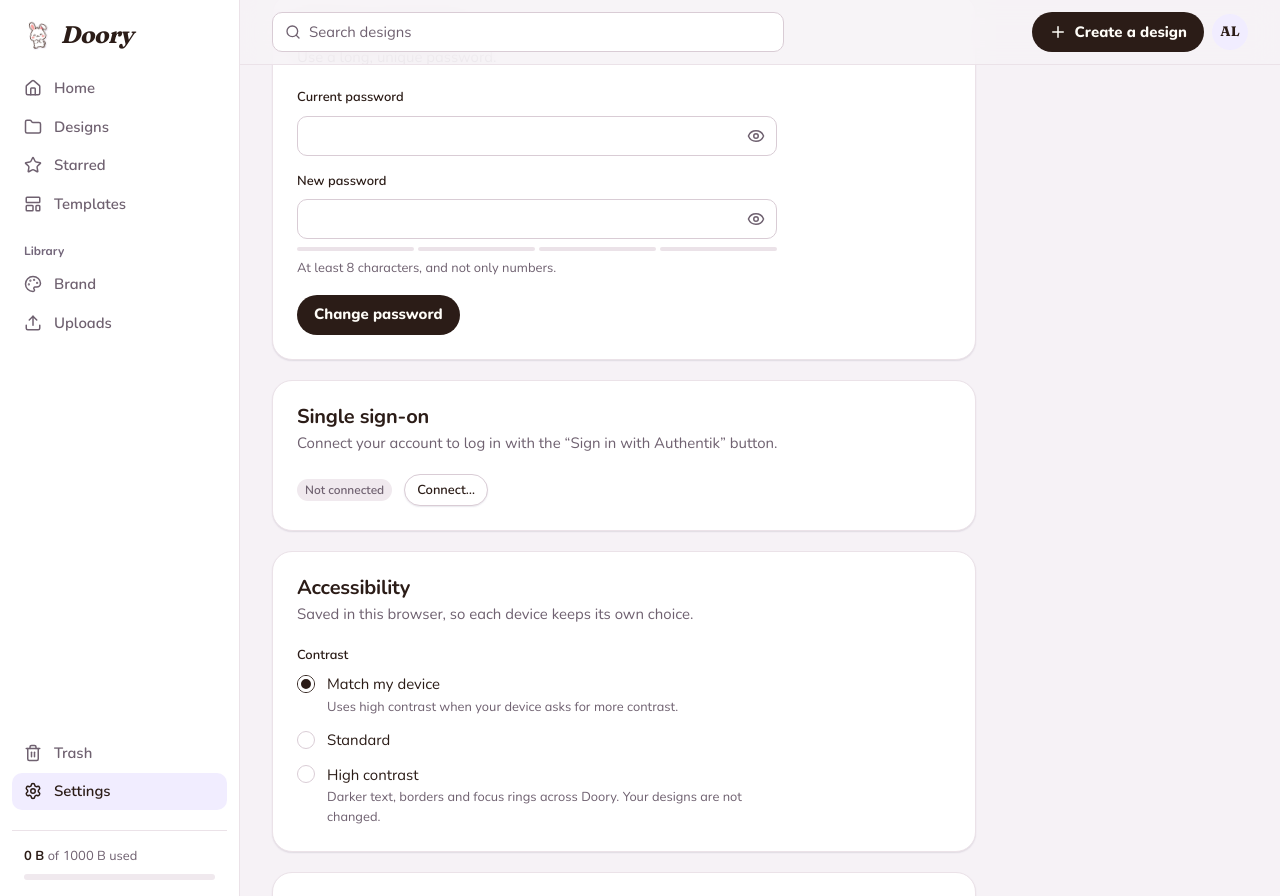
Test: settings: single sign-on › shows a wrong password and stays in the dialog
This screenshot has width=1280, height=896.
(page scrolled)
Click the button "Connect…": x=446, y=490 [404,474,488,506]
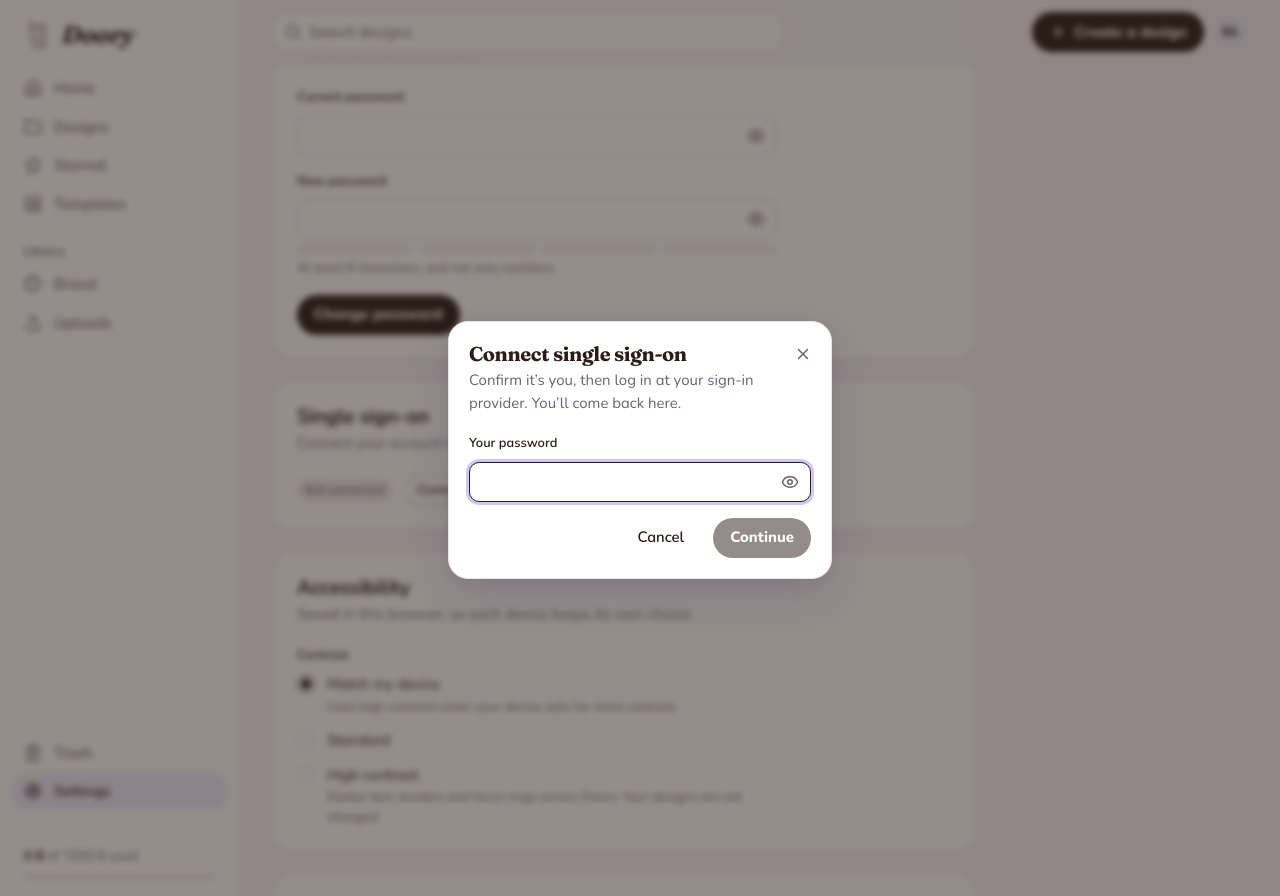
In the password field labelled "Your password": x=624, y=482 [482,463,766,501], type "wrong"
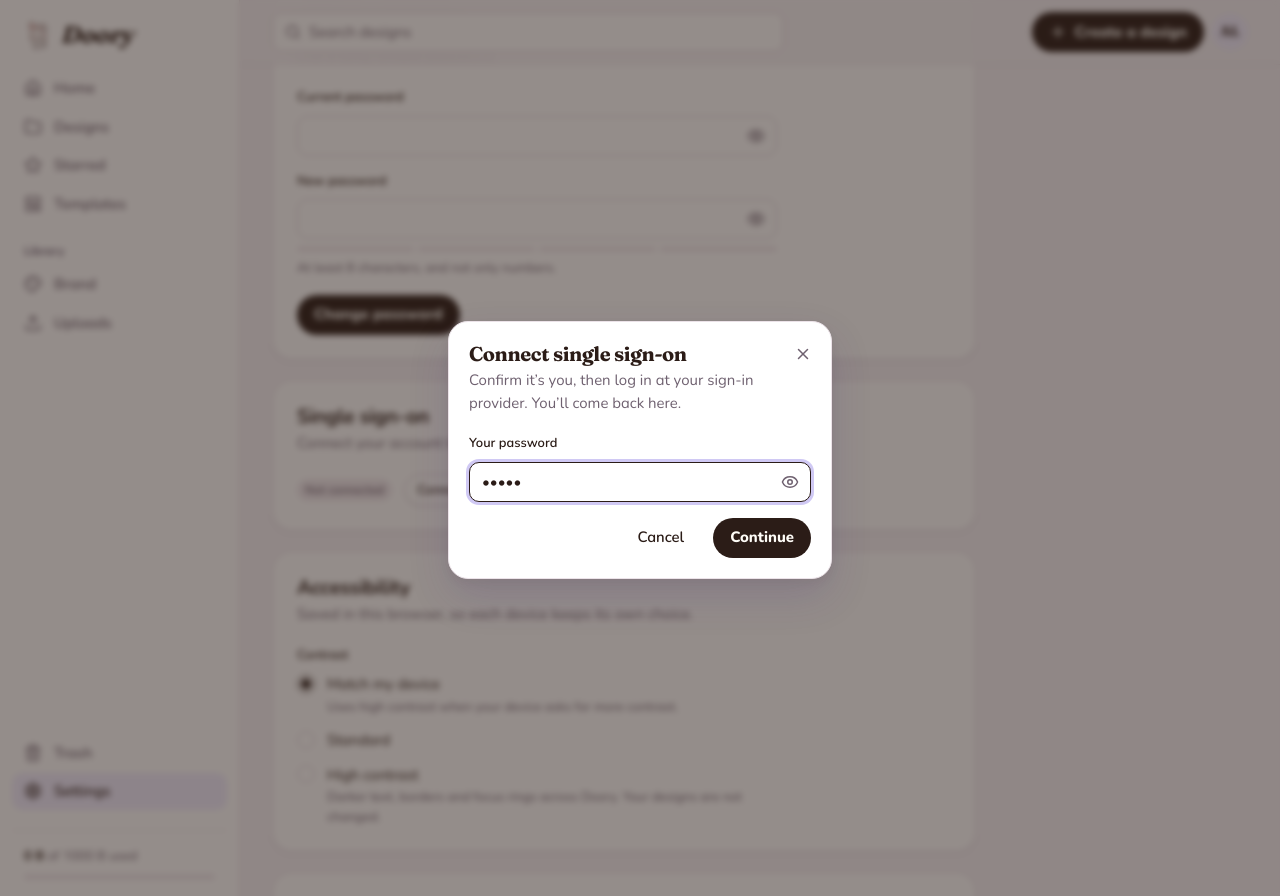
Click the button "Continue": x=762, y=538 [713,518,811,558]
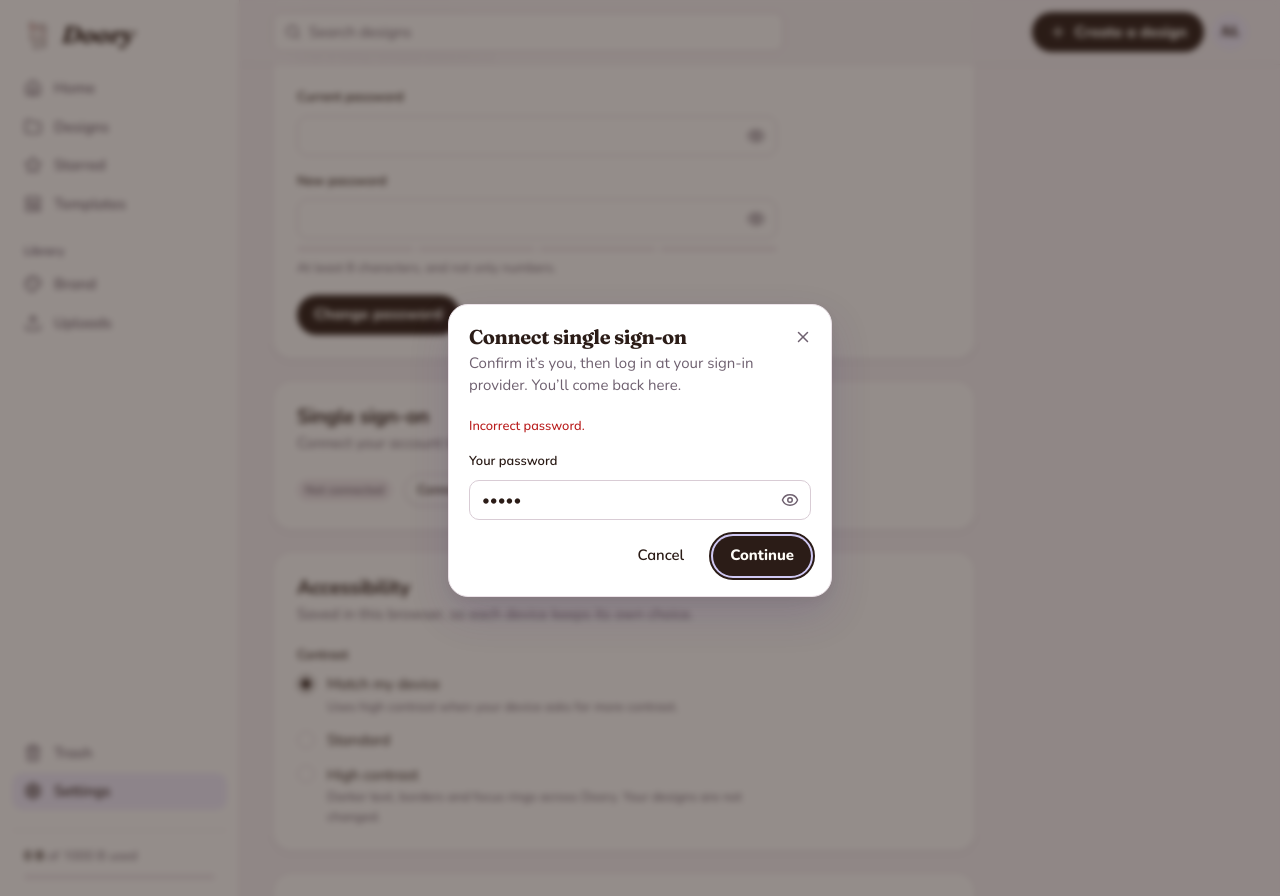
Expected: the message reads "Incorrect password.", [469,416,585,434]
